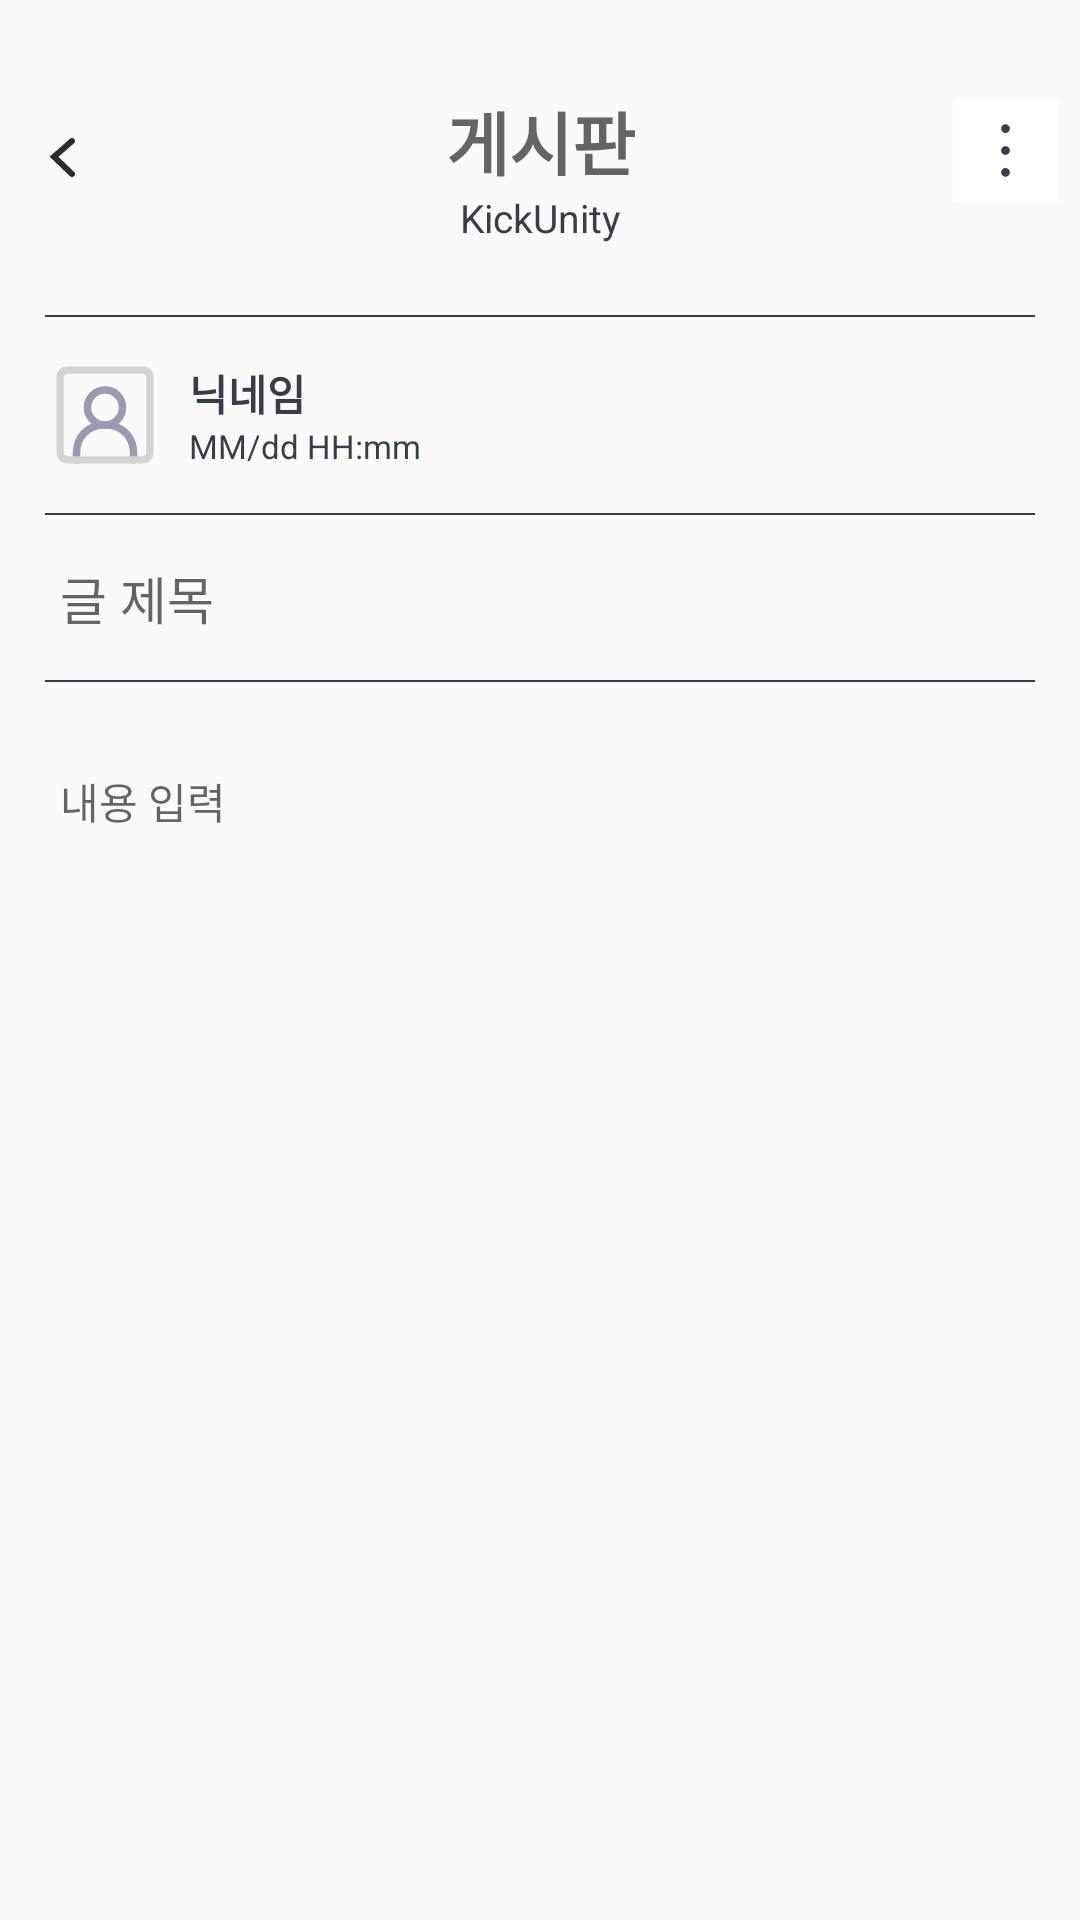

Where icons sit on this 1080*1920 app screen, as region(x1, y1, x2, y2):
arrow: region(49, 138, 75, 177)
more vertical: region(1001, 124, 1010, 177)
